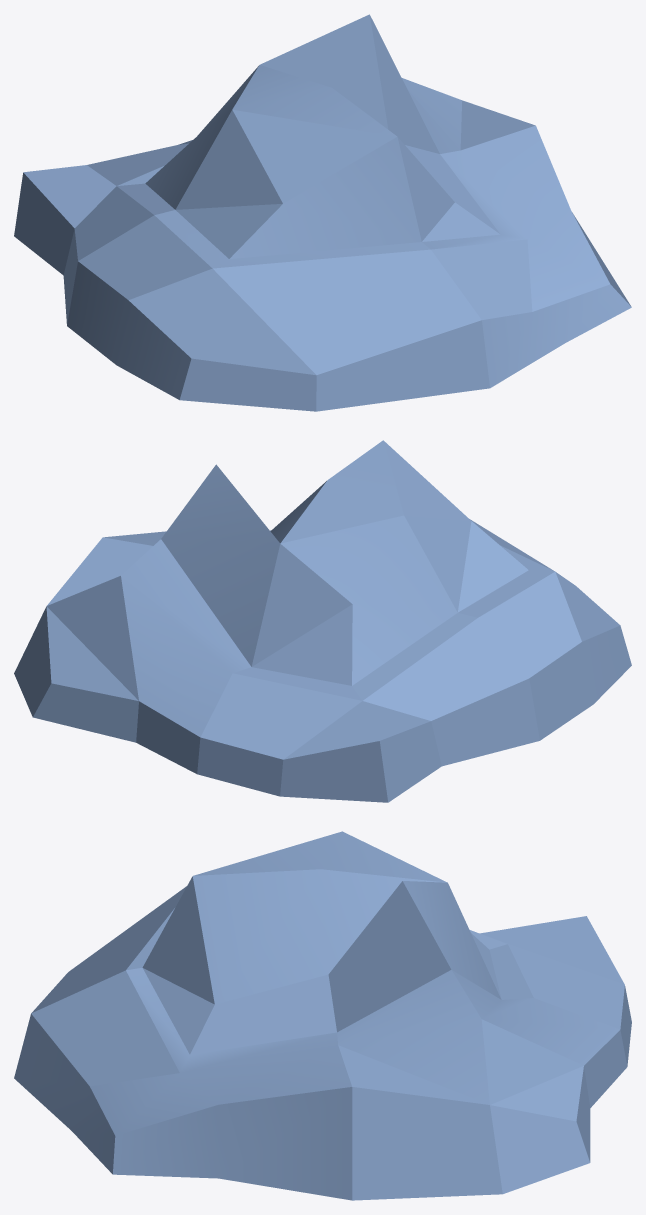
The model's file is songvrRockMedA.FBX.
The picture shows the model from 3 angles, top to bottom: view 1: azimuth 30°, elevation 25°; view 2: azimuth 150°, elevation 25°; view 3: azimuth 270°, elevation 25°; orthographic projection. The views are drawn at different scales.
Visible parts, largest first — view 1: songvrRockMedA; view 2: songvrRockMedA; view 3: songvrRockMedA.
Boxes of the visible parts, x1,y1,x2,y2 form: songvrRockMedA: (14,14,631,411); songvrRockMedA: (14,440,631,802); songvrRockMedA: (14,831,631,1200).
Size of the model in its own units: 7.63 by 3.25 by 7.89.
